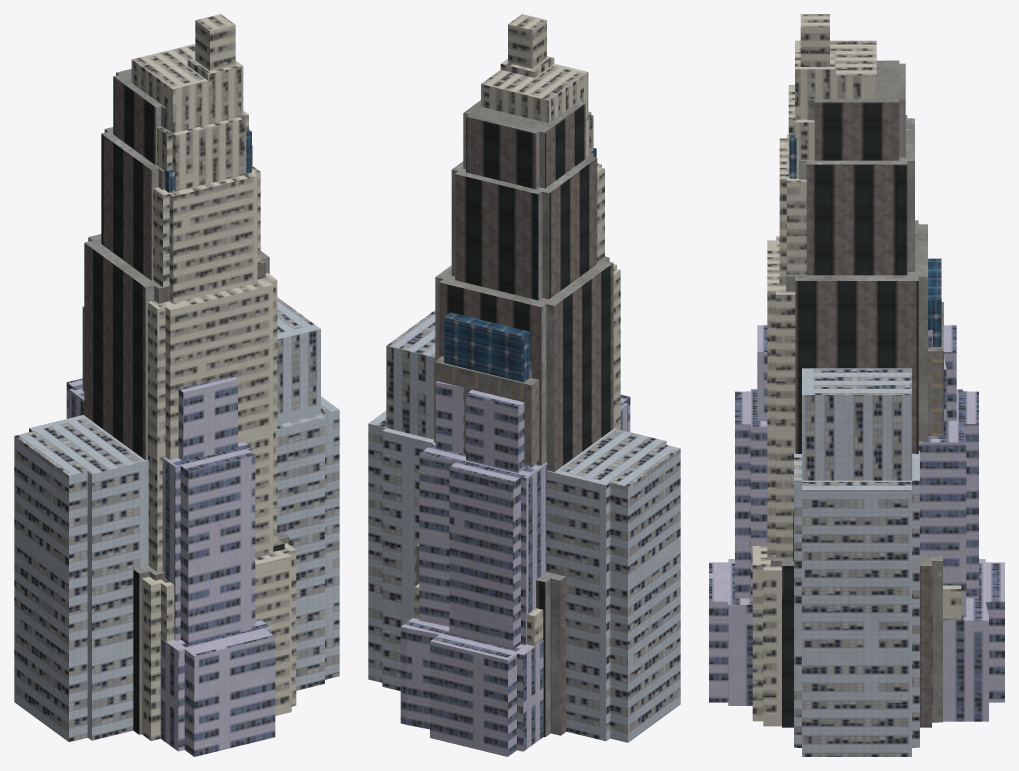
The model's file is urban.glb.
3 views of the same model, side by side, from view 1: azimuth 30°, elevation 25°; view 2: azimuth 150°, elevation 25°; view 3: azimuth 270°, elevation 25° (orthographic). The views are drawn at different scales.
Parts seen in each view (by area): view 1: Cube_005, Cube_003, Cube_006, Cube_001, Cube_002; view 2: Cube_005, Cube_001, Cube_006, Cube_003, Cube_002; view 3: Cube_005, Cube_001, Cube_006, Cube_003, Cube_002.
Part boxes in pixels (bbox=[...]): Cube_005: bbox=[14, 297, 339, 742]; Cube_003: bbox=[131, 14, 296, 740]; Cube_006: bbox=[66, 376, 275, 756]; Cube_001: bbox=[84, 69, 289, 734]; Cube_002: bbox=[82, 130, 251, 391]; Cube_005: bbox=[368, 310, 680, 742]; Cube_001: bbox=[416, 99, 613, 737]; Cube_006: bbox=[400, 361, 630, 756]; Cube_003: bbox=[414, 14, 620, 646]; Cube_002: bbox=[434, 148, 596, 465]; Cube_005: bbox=[794, 368, 919, 756]; Cube_001: bbox=[771, 60, 942, 727]; Cube_006: bbox=[709, 325, 1004, 721]; Cube_003: bbox=[752, 14, 961, 726]; Cube_002: bbox=[789, 135, 943, 561].
Bounding box in the file's own units: 3.6 × 8.62 × 3.4.
6 materials, 6 textured.
